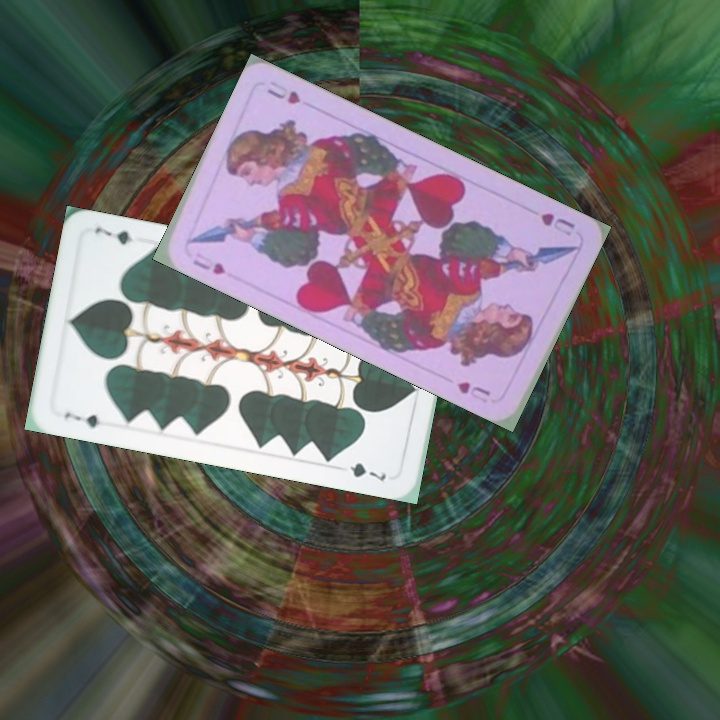G7: (60, 408, 110, 430)
HU: (536, 208, 578, 239), (188, 255, 229, 278)
